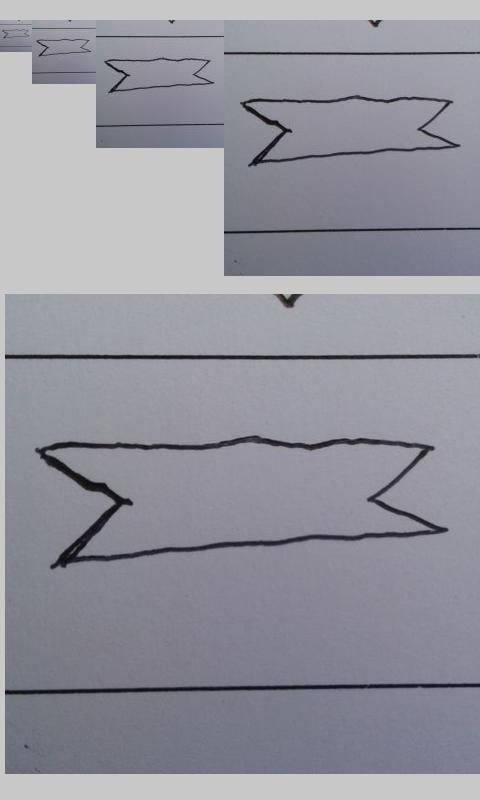edit_text: (33, 436, 448, 568), (240, 95, 462, 167), (104, 57, 215, 92), (36, 38, 92, 57), (2, 29, 29, 39)
